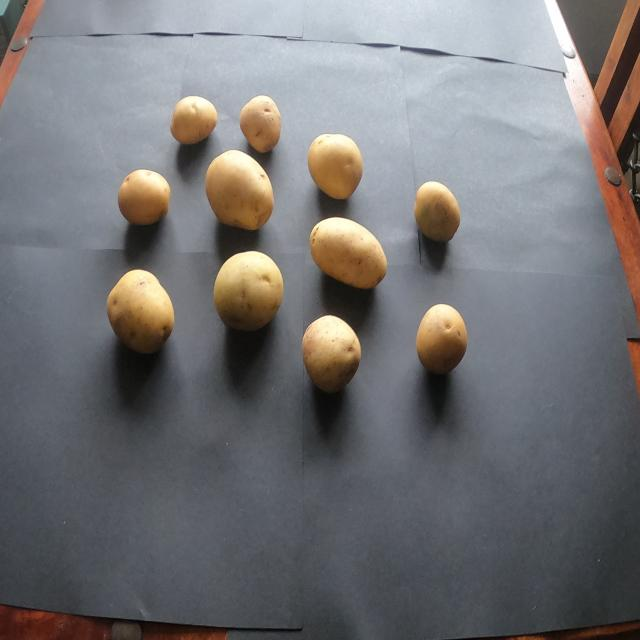Potato: (90, 264, 184, 367), (206, 249, 288, 347), (304, 212, 396, 296), (293, 308, 368, 402), (409, 297, 482, 382), (408, 171, 470, 265), (103, 158, 175, 233), (234, 89, 292, 156)
